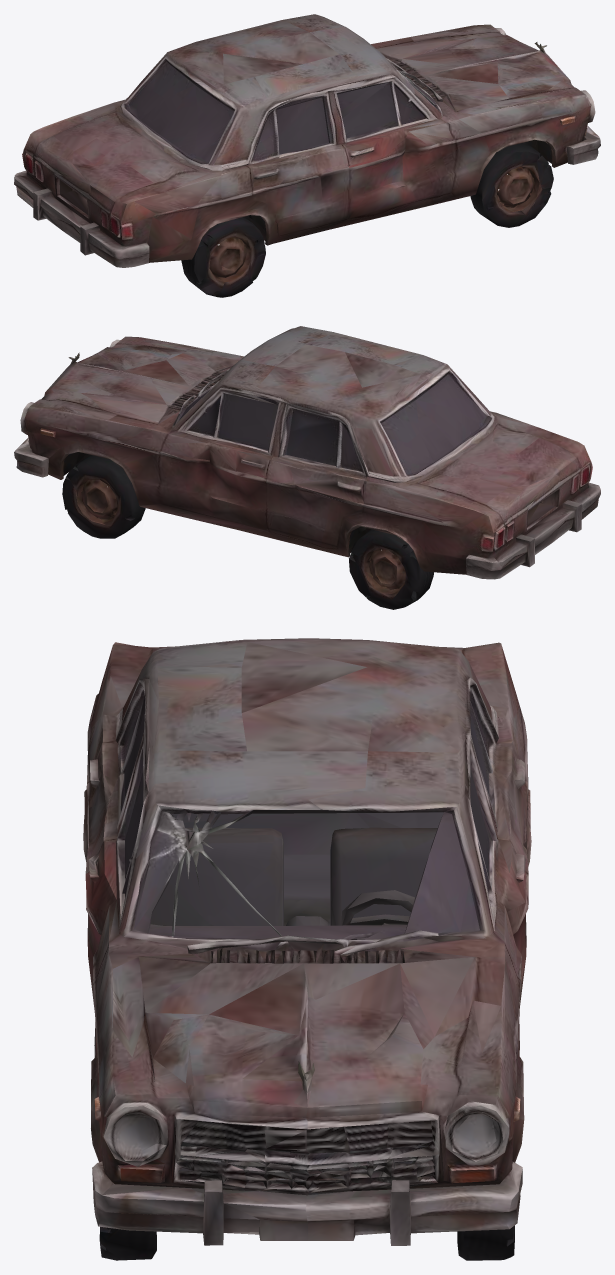
Rendered from car_sedan_idle.glb.
3 views of the same model, one above another, from view 1: azimuth 30°, elevation 25°; view 2: azimuth 150°, elevation 25°; view 3: azimuth 270°, elevation 25° (orthographic). The views are drawn at different scales.
Visible parts, largest first — view 1: tripo_node_2491545f-5bcc-473e-8e92-c4a0e15c9c47; view 2: tripo_node_2491545f-5bcc-473e-8e92-c4a0e15c9c47; view 3: tripo_node_2491545f-5bcc-473e-8e92-c4a0e15c9c47.
Boxes of the visible parts, x1,y1,x2,y2 form: tripo_node_2491545f-5bcc-473e-8e92-c4a0e15c9c47: (14, 14, 600, 297); tripo_node_2491545f-5bcc-473e-8e92-c4a0e15c9c47: (14, 326, 600, 609); tripo_node_2491545f-5bcc-473e-8e92-c4a0e15c9c47: (83, 638, 531, 1260).
Size of the model in its own units: 4.5 by 1.56 by 1.74.
1 material, 1 textured.
